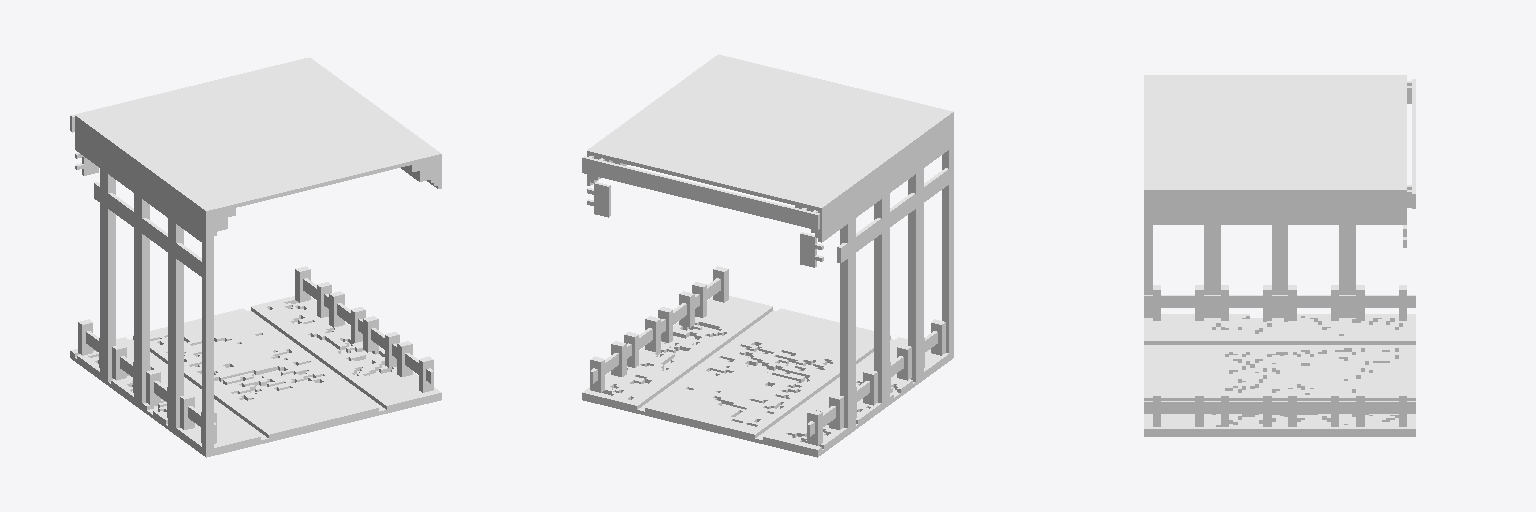
File: Tutorialmap_V2_unfinished-33.obj
3 renders of one model, left to right at view 1: azimuth 30°, elevation 25°; view 2: azimuth 150°, elevation 25°; view 3: azimuth 270°, elevation 25°, orthographic.
Parts seen in each view (by area): view 1: object 1; view 2: object 1; view 3: object 1.
Part boxes in pixels (x1,y1,x2,y2): object 1: (70,57,441,457); object 1: (582,54,953,457); object 1: (1144,75,1415,436).
Size of the model in its own units: 6.4 by 6.4 by 6.4.